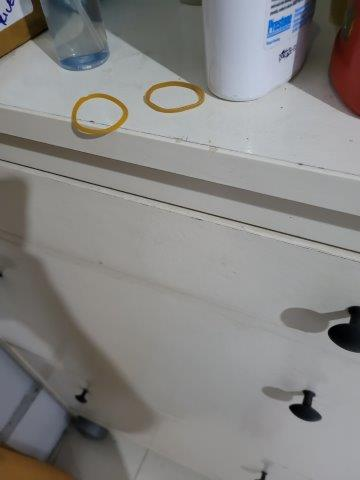karet: (71, 93, 129, 137), (145, 82, 204, 112)
